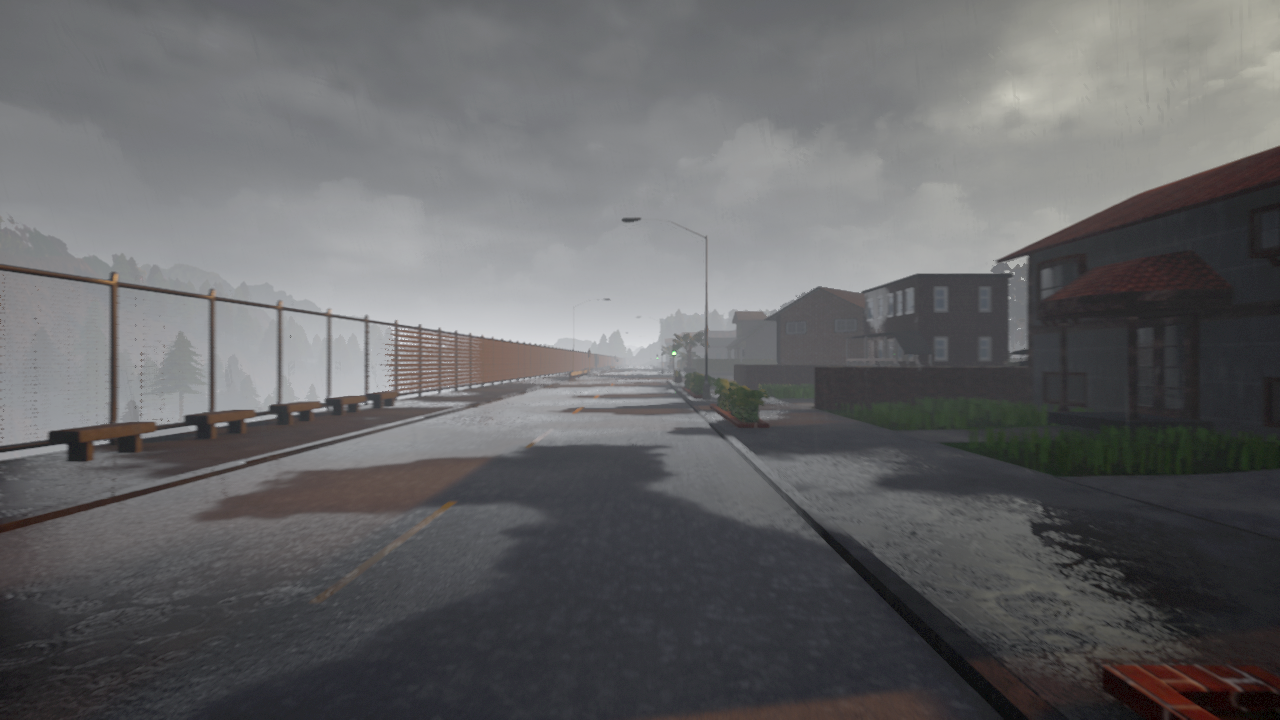green: (671, 343, 677, 356)
